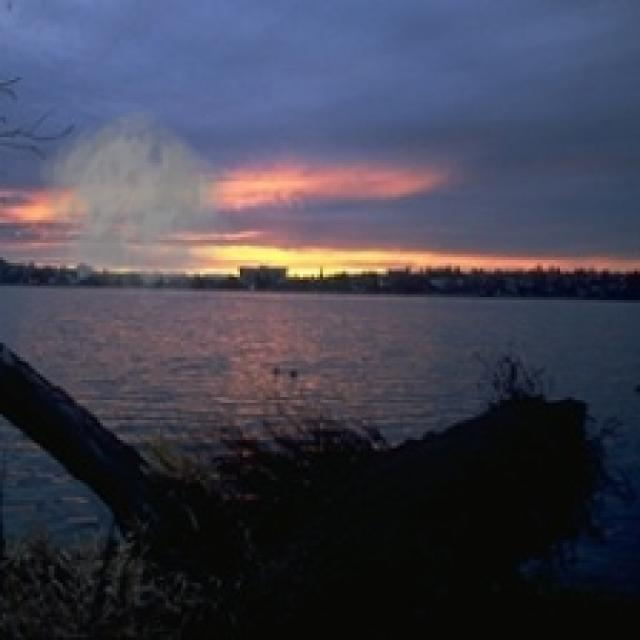smoke: (37, 108, 243, 312)
